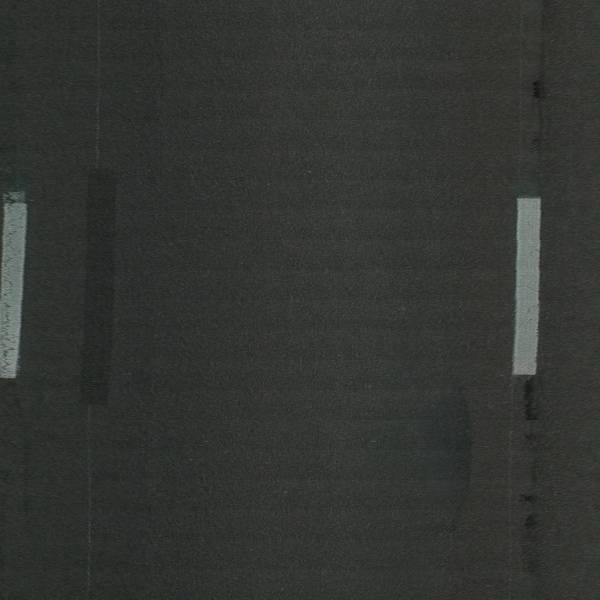road_damage: (518, 382, 545, 600)
